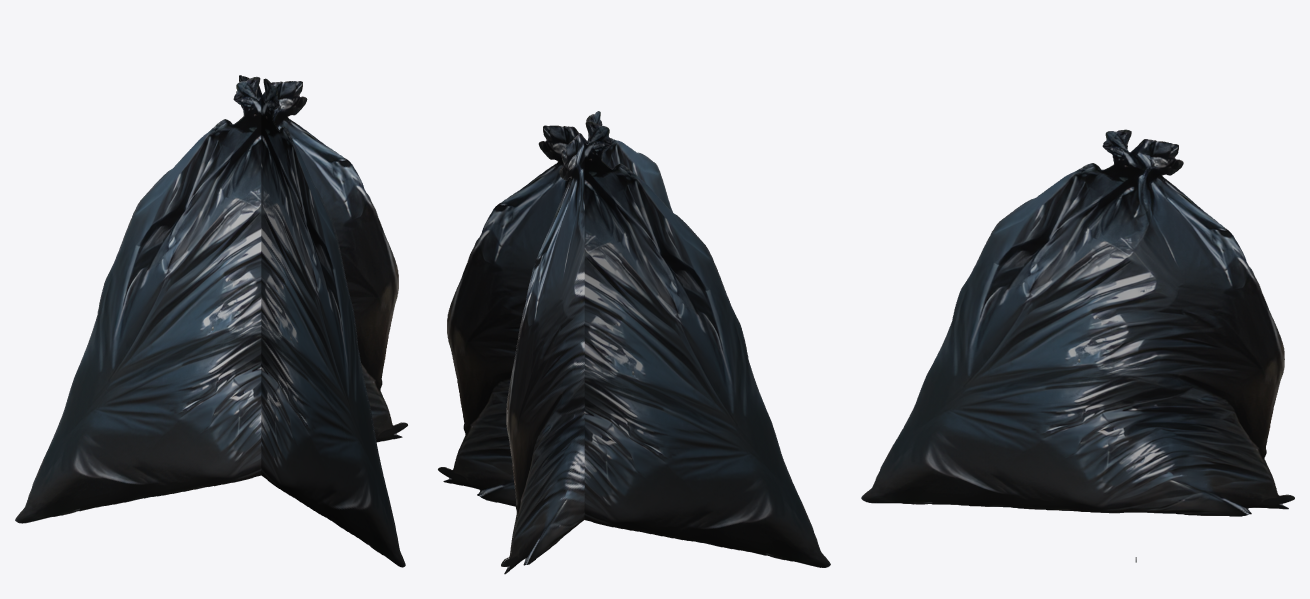
File: [NEW]trash3_model.fbx
The picture shows the model from 3 angles, left to right: view 1: azimuth 30°, elevation 25°; view 2: azimuth 150°, elevation 25°; view 3: azimuth 270°, elevation 25°; orthographic projection. The views are drawn at different scales.
Visible parts, largest first — view 1: trash3_material, trash3_material.001; view 2: trash3_material, trash3_material.001; view 3: trash3_material.001.
Boxes of the visible parts, <box> form: trash3_material: <box>15,76,407,523</box>; trash3_material.001: <box>236,75,405,567</box>; trash3_material: <box>438,121,830,567</box>; trash3_material.001: <box>501,111,672,574</box>; trash3_material.001: <box>861,129,1294,516</box>.
Size of the model in its own units: 102 by 100 by 102.
